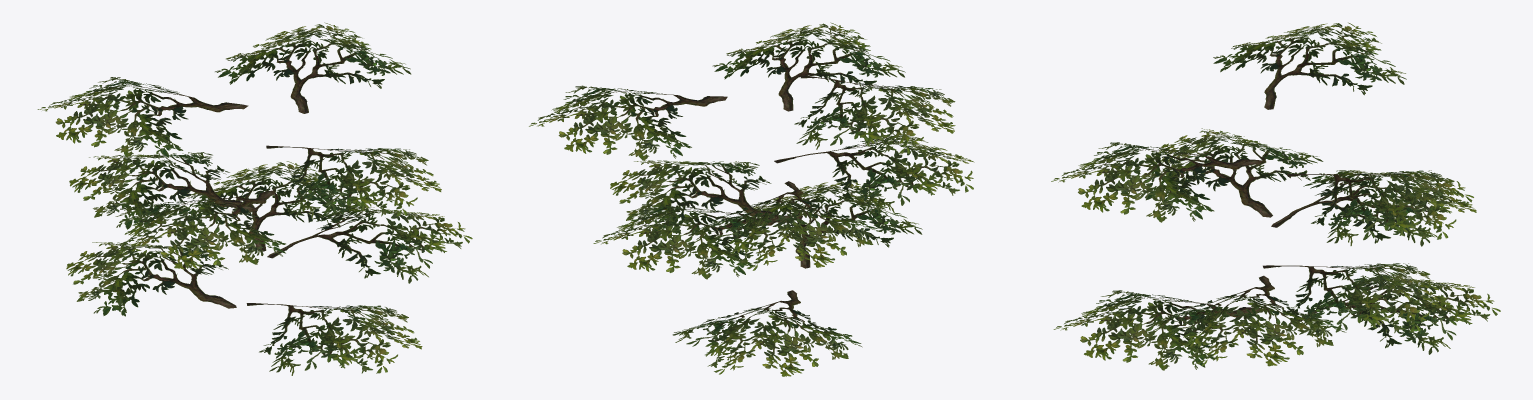
File: fxmg_shuye3.FBX
3 views of the same model, side by side, from view 1: azimuth 30°, elevation 25°; view 2: azimuth 150°, elevation 25°; view 3: azimuth 270°, elevation 25° (orthographic). The views are drawn at different scales.
Parts seen in each view (by area): view 1: KLMSM_shuye3; view 2: KLMSM_shuye3; view 3: KLMSM_shuye3.
Boxes of the visible parts, <box> form: KLMSM_shuye3: <box>37,22,472,375</box>; KLMSM_shuye3: <box>529,22,974,376</box>; KLMSM_shuye3: <box>1051,22,1500,370</box>.
Size of the model in its own units: 1303 by 742 by 1298.
